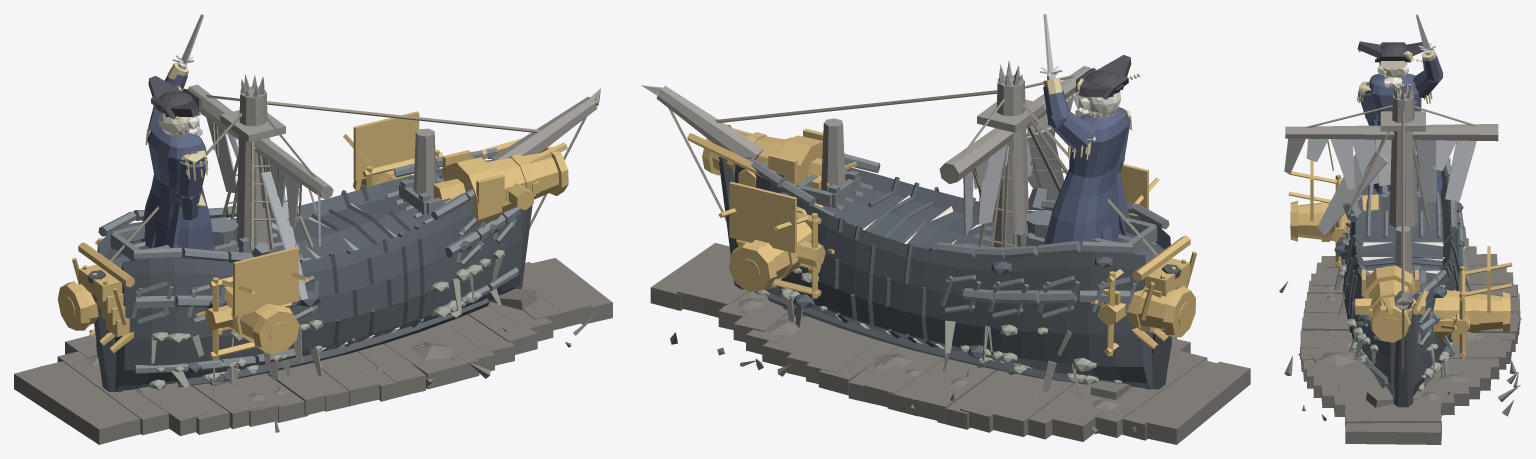
Rendered from boss_wrack.glb.
3 views of the same model, side by side, from view 1: azimuth 30°, elevation 25°; view 2: azimuth 150°, elevation 25°; view 3: azimuth 270°, elevation 25° (orthographic). The views are drawn at different scales.
Parts seen in each view (by area): view 1: Wrack_Base, Wrack_Hull, Wrack_ShellUpper, Wrack_Strakes, Wrack_Mast, Wrack_CannonPort, Wrack_CannonBow, Wrack_Coat, Wrack_CannonStern, Wrack_Crust, Wrack_Keel, Wrack_Rigging (+7 smaller); view 2: Wrack_Base, Wrack_Hull, Wrack_ShellLower, Wrack_Strakes, Wrack_Mast, Wrack_CannonStarboard, Wrack_Coat, Wrack_CannonStern, Wrack_Rigging, Wrack_CannonBow, Wrack_Keel, Wrack_Sail (+7 smaller); view 3: Wrack_Base, Wrack_Mast, Wrack_Sail, Wrack_Hull, Wrack_CannonStarboard, Wrack_Strakes, Wrack_CannonBow, Wrack_CannonPort, Wrack_ShellUpper, Wrack_Rigging, Wrack_ShellLower, Wrack_Crust (+8 smaller).
Part boxes in pixels (left/top/right/bottom): Wrack_Base: left=14, top=258, right=612, bottom=444; Wrack_Hull: left=96, top=160, right=521, bottom=391; Wrack_ShellUpper: left=295, top=209, right=435, bottom=351; Wrack_Strakes: left=98, top=147, right=520, bottom=373; Wrack_Mast: left=188, top=74, right=600, bottom=252; Wrack_CannonPort: left=196, top=247, right=309, bottom=360; Wrack_CannonBow: left=433, top=138, right=568, bottom=225; Wrack_Coat: left=140, top=126, right=214, bottom=259; Wrack_CannonStern: left=57, top=238, right=134, bottom=352; Wrack_Crust: left=149, top=250, right=504, bottom=396; Wrack_Keel: left=87, top=205, right=532, bottom=391; Wrack_Rigging: left=109, top=95, right=586, bottom=261; Wrack_Base: left=650, top=243, right=1250, bottom=444; Wrack_Hull: left=734, top=164, right=1171, bottom=389; Wrack_ShellLower: left=822, top=201, right=974, bottom=350; Wrack_Strakes: left=738, top=138, right=1169, bottom=374; Wrack_Mast: left=641, top=61, right=1090, bottom=247; Wrack_CannonStarboard: left=718, top=181, right=834, bottom=298; Wrack_Coat: left=1044, top=107, right=1131, bottom=252; Wrack_CannonStern: left=1090, top=235, right=1196, bottom=356; Wrack_Rigging: left=668, top=74, right=1158, bottom=366; Wrack_CannonBow: left=687, top=124, right=857, bottom=189; Wrack_Keel: left=718, top=157, right=1180, bottom=389; Wrack_Sail: left=963, top=92, right=1079, bottom=236; Wrack_Base: left=1279, top=226, right=1521, bottom=444; Wrack_Mast: left=1285, top=82, right=1498, bottom=310; Wrack_Sail: left=1284, top=137, right=1476, bottom=235; Wrack_Hull: left=1334, top=169, right=1466, bottom=399; Wrack_CannonStarboard: left=1433, top=246, right=1512, bottom=358; Wrack_Strakes: left=1340, top=158, right=1465, bottom=384; Wrack_CannonBow: left=1355, top=265, right=1429, bottom=342; Wrack_CannonPort: left=1288, top=160, right=1378, bottom=267; Wrack_ShellUpper: left=1343, top=231, right=1395, bottom=341; Wrack_Rigging: left=1285, top=105, right=1498, bottom=369; Wrack_ShellLower: left=1411, top=232, right=1461, bottom=342; Wrack_Crust: left=1334, top=246, right=1472, bottom=391.
Size of the model in its own units: 56.25 by 35.46 by 26.79.
